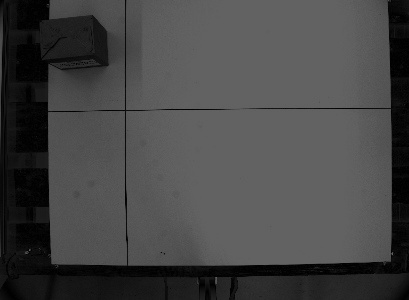b5: (36, 12, 111, 71)
